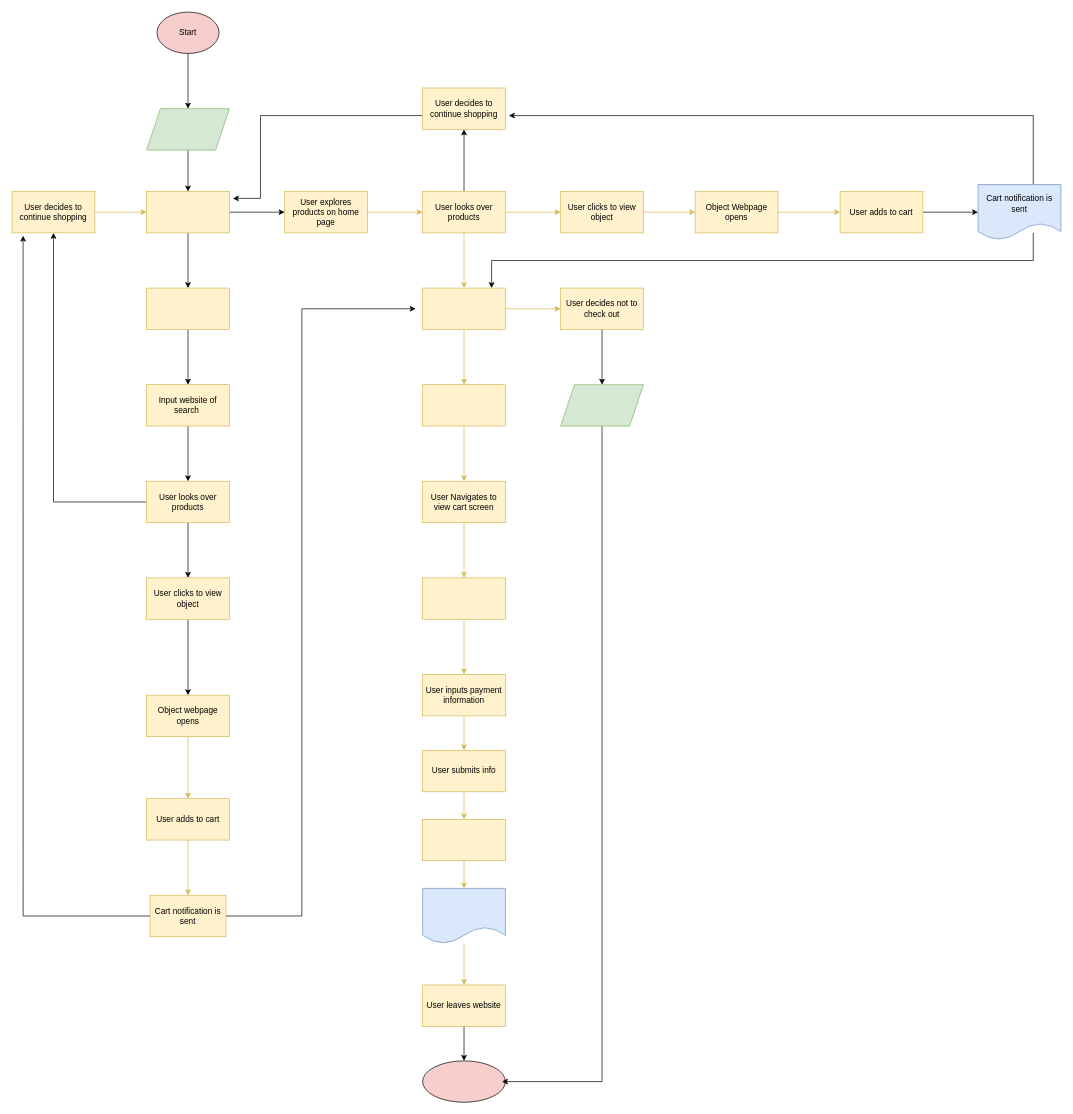
This 1073x1114 diagram has some shape labels left out. The shapes that lost their labels are listed below. From the top down, each one's centre as x and y in pixels, then its label:
At [187,129]: "User Enters Website".
At [187,212]: "User decides how to shop".
At [187,308]: "User Searches for Product".
At [463,308]: "User decides to stop shopping".
At [463,405]: "User decides to checkout".
At [601,405]: "User Exits page".
At [463,598]: "User navigates to view payment screen".
At [463,840]: "User sees order confirmation screen".
At [463,916]: "Email confirmation sent".
At [463,1081]: "End".
